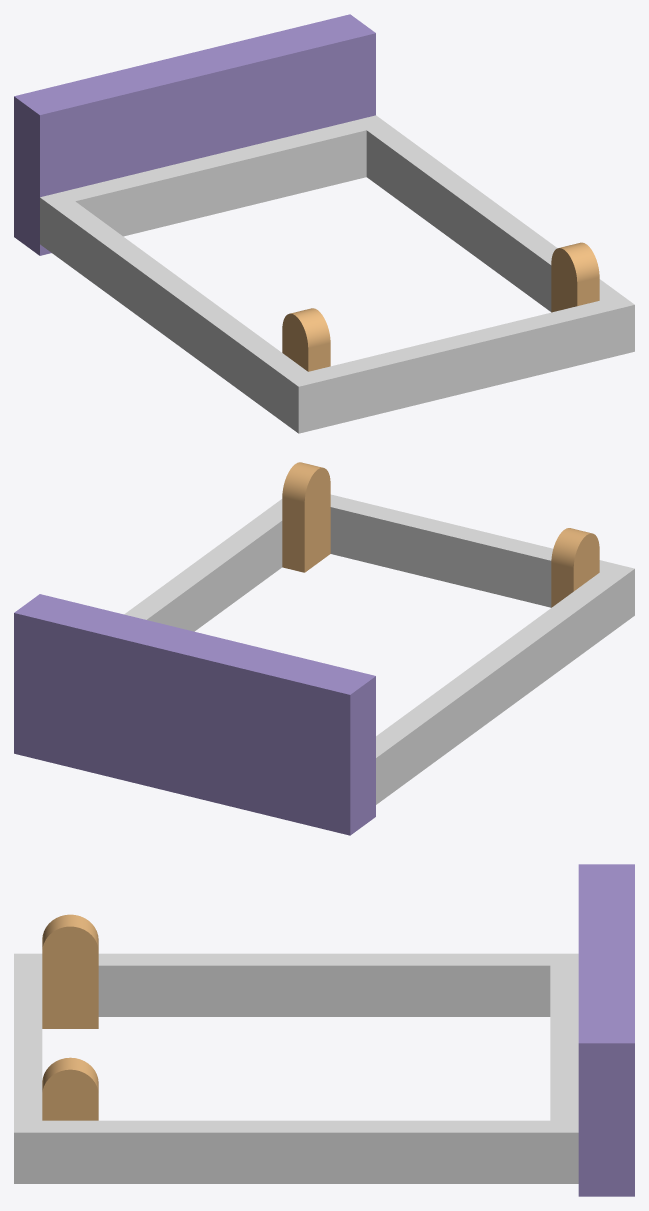
3 views of the same model, one above another, from view 1: azimuth 30°, elevation 25°; view 2: azimuth 150°, elevation 25°; view 3: azimuth 270°, elevation 25° (orthographic). The views are drawn at different scales.
Parts seen in each view (by area): view 1: Generic Frame <1>, Carriage, Arm Segment <7>, Arm Segment <3>; view 2: Carriage, Generic Frame <1>, Arm Segment <7>, Arm Segment <3>; view 3: Generic Frame <1>, Carriage, Arm Segment <3>, Arm Segment <7>.
Part boxes in pixels (bbox=[...]): Generic Frame <1>: bbox=[40, 115, 634, 433]; Carriage: bbox=[14, 14, 375, 255]; Arm Segment <7>: bbox=[551, 242, 599, 312]; Arm Segment <3>: bbox=[282, 308, 330, 371]; Carriage: bbox=[14, 594, 375, 835]; Generic Frame <1>: bbox=[124, 494, 634, 804]; Arm Segment <7>: bbox=[282, 462, 330, 572]; Arm Segment <3>: bbox=[551, 528, 599, 607]; Generic Frame <1>: bbox=[14, 953, 578, 1183]; Carriage: bbox=[578, 864, 634, 1196]; Arm Segment <3>: bbox=[42, 914, 98, 1028]; Arm Segment <7>: bbox=[42, 1057, 98, 1120].
Bounding box in the file's own units: 0.381 × 0.1524 × 0.5588.
